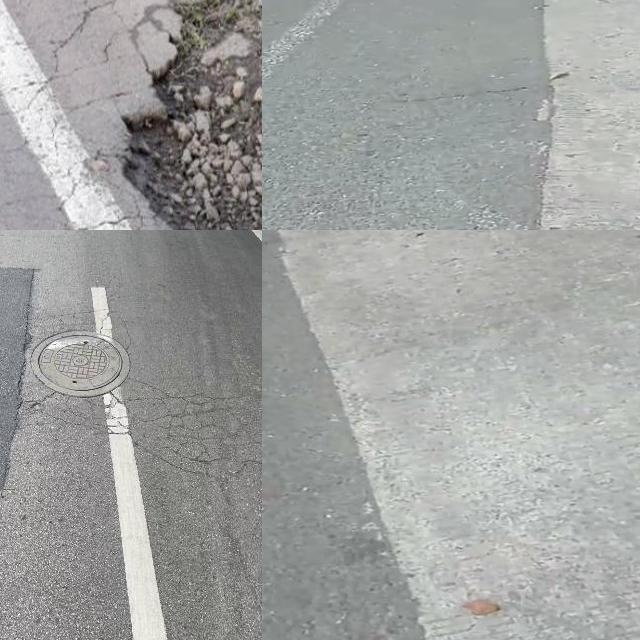Lubang: (35, 328, 128, 394)
Pinggir: (92, 0, 262, 230)
Sambungan: (262, 230, 423, 640), (541, 0, 640, 230)
